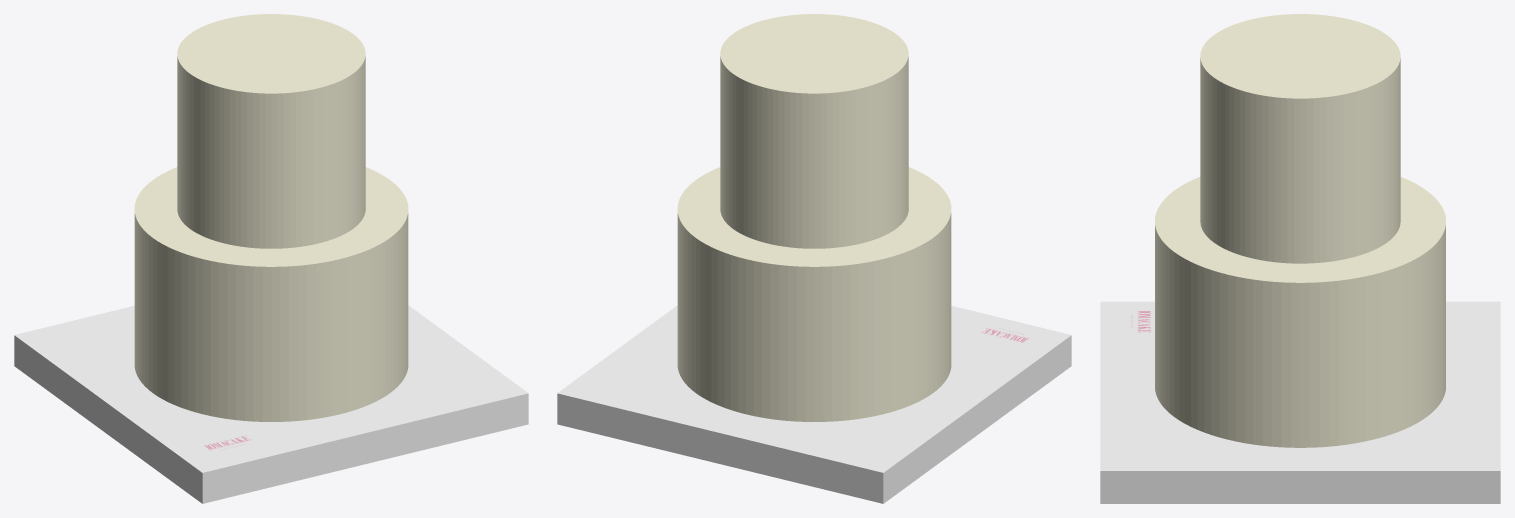
The model's file is cake_tier2_6-4_layers3_v33.glb.
The picture shows the model from 3 angles, left to right: view 1: azimuth 30°, elevation 25°; view 2: azimuth 150°, elevation 25°; view 3: azimuth 270°, elevation 25°; orthographic projection. The views are drawn at different scales.
Parts seen in each view (by area): view 1: Tier0, Tier1, Board, Logo; view 2: Tier0, Tier1, Board, Logo; view 3: Tier0, Tier1, Board, Logo.
Part boxes in pixels (box(x1,y1,x2,y2)): Tier0: box(134, 167, 408, 421); Tier1: box(177, 14, 365, 248); Board: box(14, 305, 528, 503); Logo: box(196, 432, 262, 456); Tier0: box(677, 167, 951, 421); Tier1: box(720, 14, 908, 248); Board: box(557, 305, 1071, 503); Logo: box(974, 322, 1040, 345); Tier0: box(1155, 177, 1445, 447); Tier1: box(1200, 14, 1400, 263); Board: box(1100, 301, 1500, 503); Logo: box(1124, 308, 1154, 334).
Size of the model in its own units: 0.22 by 0.22 by 0.22.
